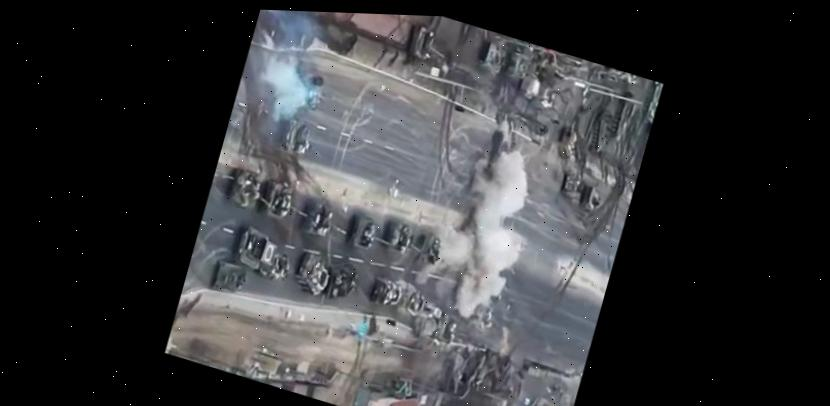rszo: (229, 223, 280, 274)
tank: (273, 63, 332, 120), (272, 115, 333, 165), (283, 250, 335, 303), (256, 178, 313, 226), (225, 165, 277, 215), (201, 255, 253, 304), (300, 198, 352, 244), (344, 214, 395, 257), (581, 105, 618, 163), (543, 123, 586, 171), (380, 220, 428, 262), (404, 23, 451, 65), (364, 268, 405, 314), (323, 261, 363, 306), (393, 279, 431, 323), (612, 91, 641, 143), (429, 307, 462, 351), (402, 305, 438, 344), (257, 248, 289, 290), (480, 40, 510, 81), (511, 68, 544, 104), (555, 171, 586, 209), (501, 50, 534, 85), (578, 186, 603, 222), (601, 66, 623, 84), (623, 72, 644, 89)
